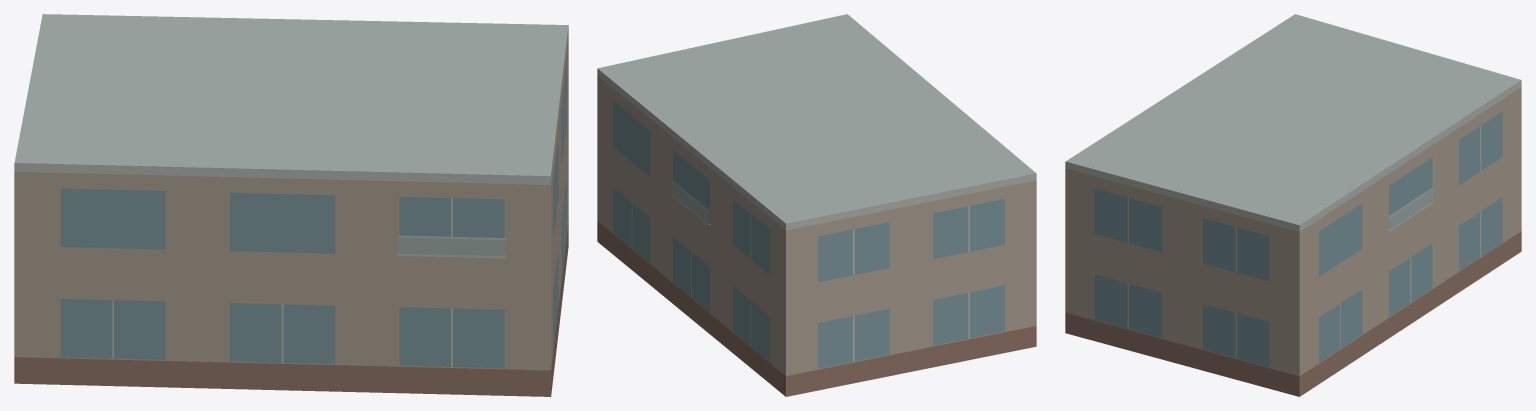
File: survey-upis-32476357.glb
The picture shows the model from 3 angles, left to right: view 1: azimuth 30°, elevation 25°; view 2: azimuth 150°, elevation 25°; view 3: azimuth 270°, elevation 25°; orthographic projection. The views are drawn at different scales.
Parts seen in each view (by area): view 1: survey-upis-32476357.tmp; view 2: survey-upis-32476357.tmp; view 3: survey-upis-32476357.tmp.
Boxes of the visible parts, <box> form: survey-upis-32476357.tmp: <box>14,14,568,396</box>; survey-upis-32476357.tmp: <box>597,14,1036,396</box>; survey-upis-32476357.tmp: <box>1065,14,1521,396</box>.
Bounding box in the file's own units: 16.12 × 6.1 × 14.7.
